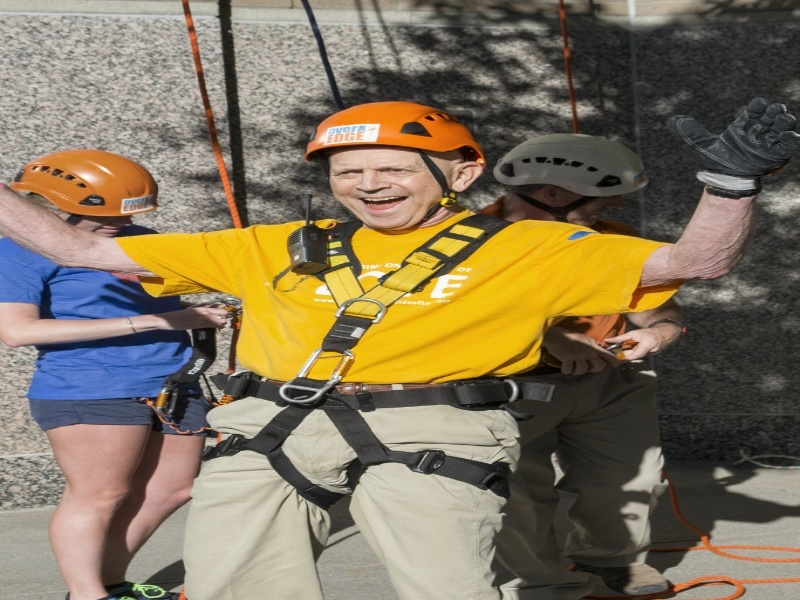Baret: (16, 144, 168, 218), (308, 99, 486, 161), (498, 128, 652, 199)
